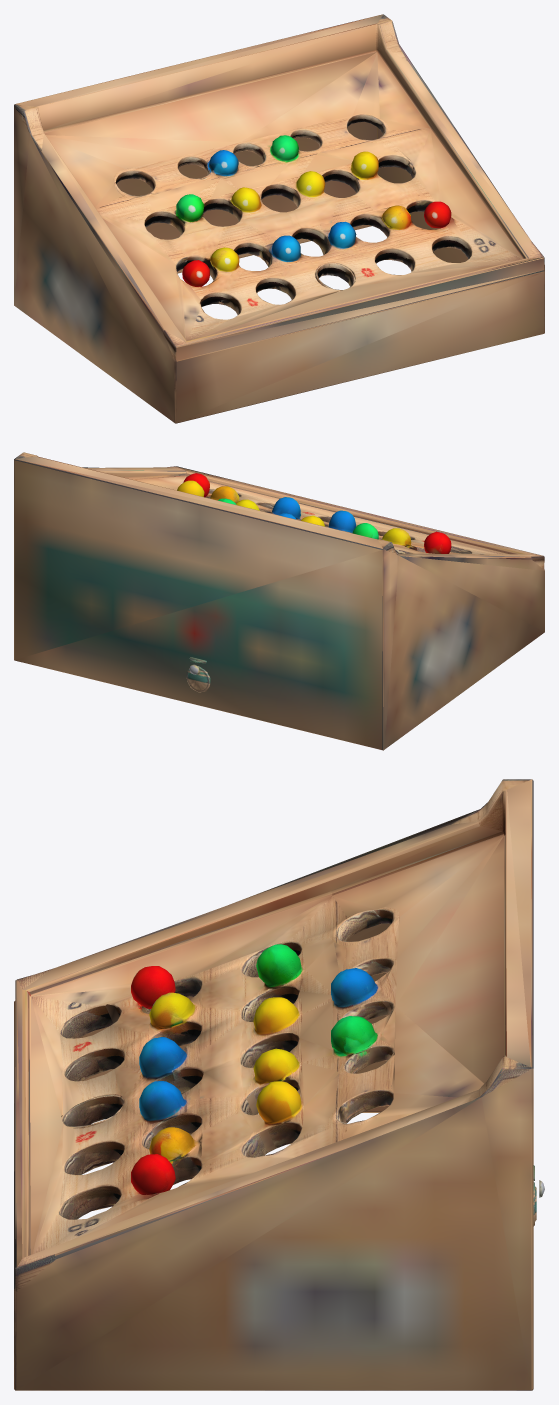
File: canicasMar.fbx
The picture shows the model from 3 angles, top to bottom: view 1: azimuth 30°, elevation 25°; view 2: azimuth 150°, elevation 25°; view 3: azimuth 270°, elevation 25°; orthographic projection. The views are drawn at different scales.
Parts seen in each view (by area): view 1: Mesh_0; view 2: Mesh_0; view 3: Mesh_0.
Boxes of the visible parts, x1=… form: Mesh_0: x1=14, y1=14, x2=544, y2=423; Mesh_0: x1=14, y1=452, x2=544, y2=750; Mesh_0: x1=14, y1=779, x2=544, y2=1390.
Size of the model in its own units: 191 by 99.02 by 148.
1 material, 1 textured.
